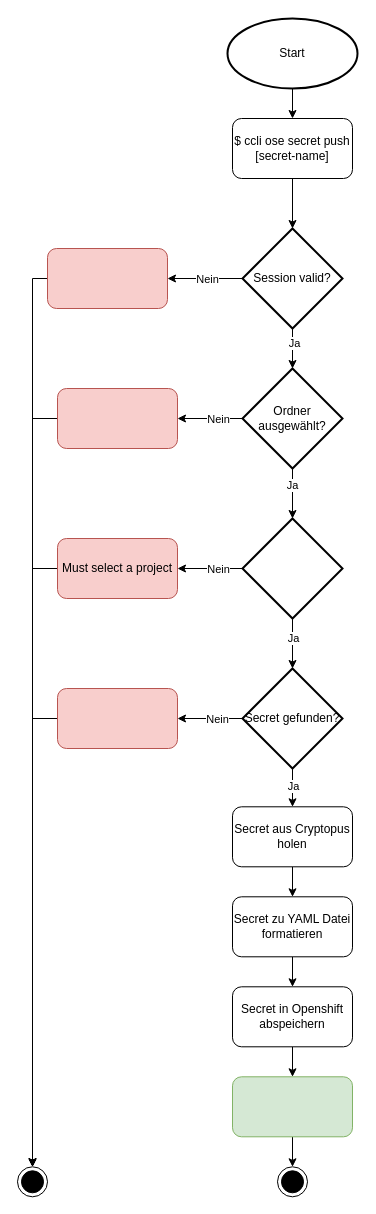
Image size: 376x1214. Some labels were removed from this diagram. Here are the shapes that lost their labels. From the top down, the centre of each, then its label:
the point at 107,278: Must be logged in
the point at 117,418: Must select a folder
the point at 292,568: oc projekt ausgewählt?
the point at 117,718: Secret not found
the point at 292,1106: Secrets erfolgreich gepulled!
